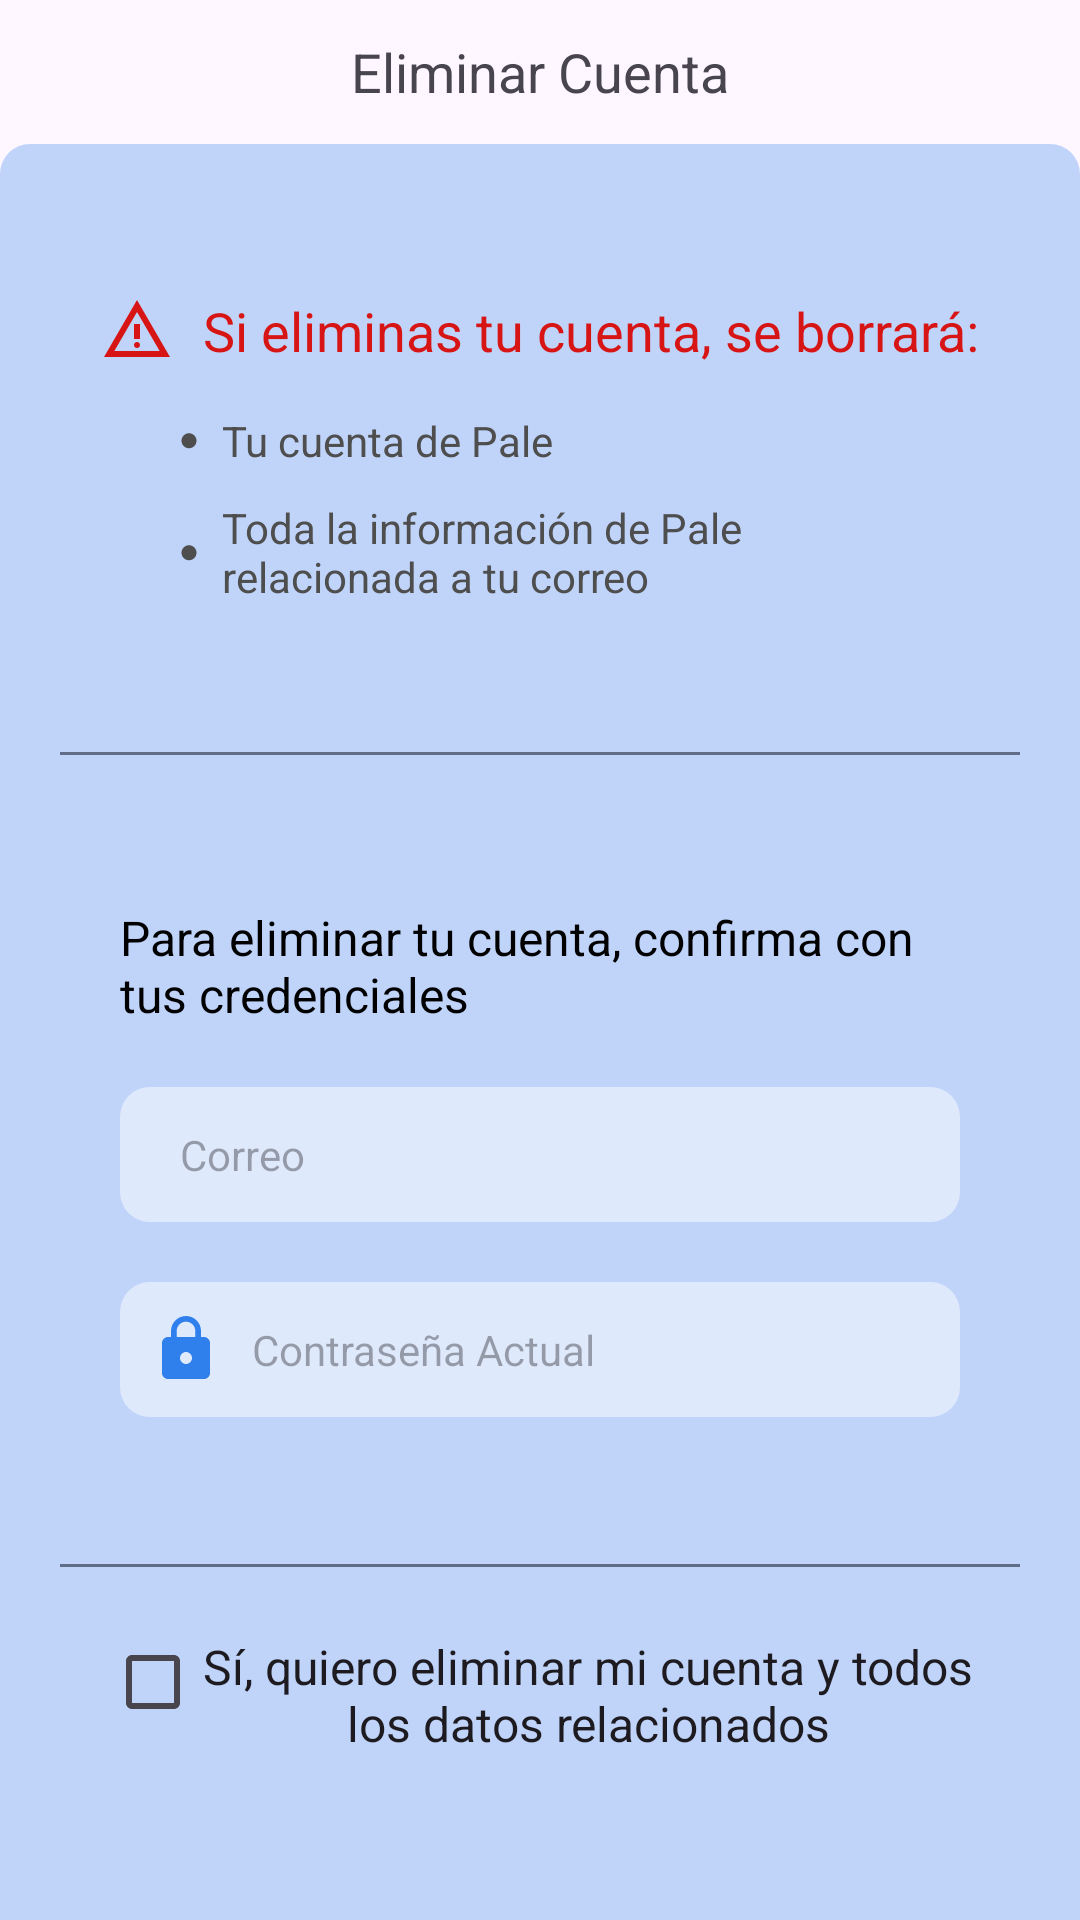

Icon click points for this 1080px x 1920px phone screenshot, format (x,y):
lock: (186,1347)
warning: (137,328)
